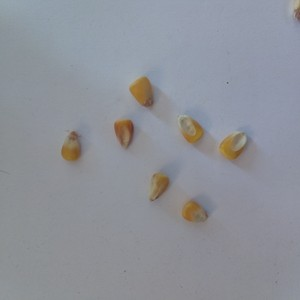maiz: (172, 113, 208, 145), (217, 129, 250, 162), (126, 73, 157, 108), (109, 117, 137, 150), (57, 129, 83, 163), (144, 170, 170, 204), (179, 197, 211, 224)
